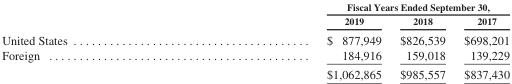table: (1, 0, 509, 80)
table column: (1, 0, 196, 80), (196, 0, 390, 80), (390, 0, 454, 80), (454, 0, 509, 80)
table column header: (1, 0, 509, 29)
table row: (1, 29, 509, 47), (1, 47, 509, 64), (1, 13, 509, 29), (1, 64, 509, 80), (1, 0, 509, 13)
table spanning cell: (196, 0, 509, 13)
